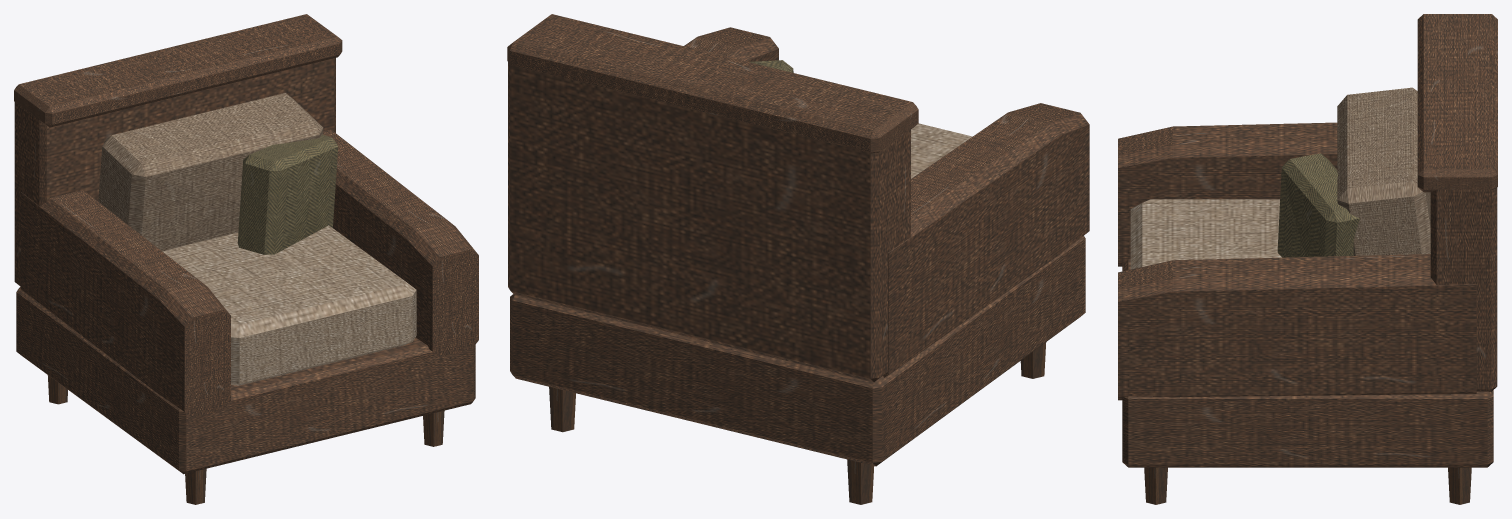
The model's file is armchair.glb.
The picture shows the model from 3 angles, left to right: view 1: azimuth 30°, elevation 25°; view 2: azimuth 150°, elevation 25°; view 3: azimuth 270°, elevation 25°; orthographic projection. The views are drawn at different scales.
Parts seen in each view (by area): view 1: core_armchair; view 2: core_armchair; view 3: core_armchair.
Boxes of the visible parts, bbox=[...] form: core_armchair: bbox=[14, 14, 478, 504]; core_armchair: bbox=[507, 14, 1089, 504]; core_armchair: bbox=[1118, 14, 1497, 504].
Bounding box in the file's own units: 0.9 × 0.9 × 0.9.
1 material, 1 textured.
